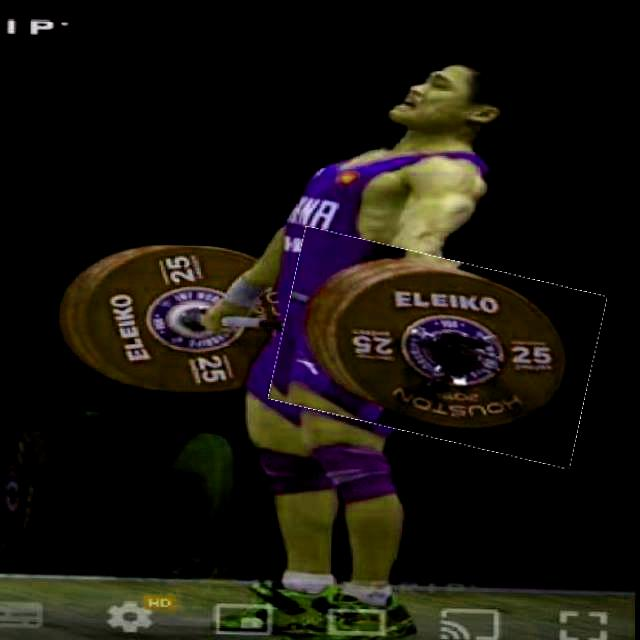barbell: (277, 240, 600, 452)
